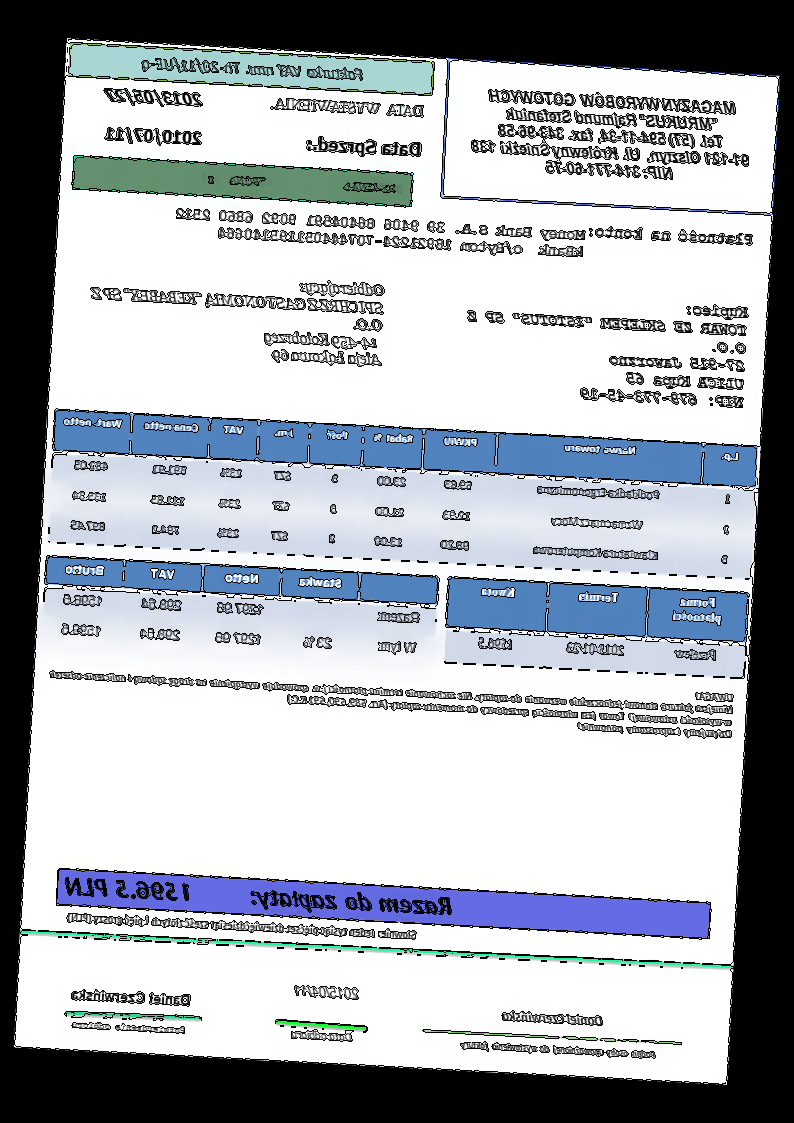Table: (43, 407, 760, 584), (40, 553, 440, 671), (442, 574, 750, 680)
TextBox: (46, 655, 739, 745), (460, 291, 752, 411), (85, 266, 388, 370), (463, 85, 757, 189), (172, 205, 587, 259), (61, 872, 459, 921), (64, 908, 421, 943), (138, 54, 368, 86), (197, 168, 405, 197), (458, 1037, 659, 1063), (268, 92, 427, 123), (584, 221, 758, 248), (304, 133, 425, 160), (69, 986, 194, 1011), (101, 84, 210, 110), (102, 123, 206, 150), (69, 1017, 191, 1036), (500, 1007, 607, 1027), (293, 982, 363, 1001), (288, 1028, 355, 1043)
